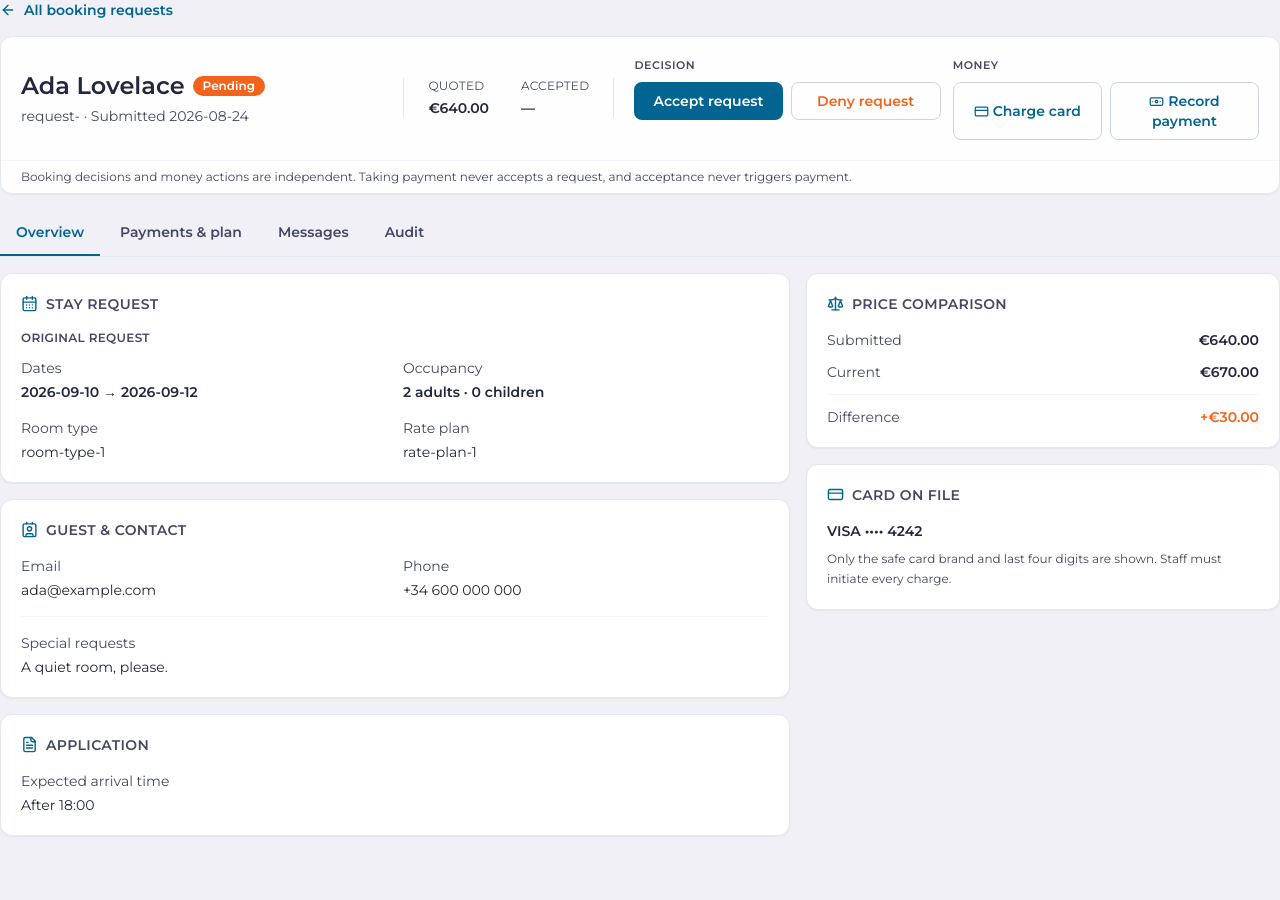
Test: Booking request decisions › uses authoritative net, reserved, allocation, and unresolved fields for every staff amount
Click the button "Deny request".
click(866, 100)  # box [791,82,941,120]
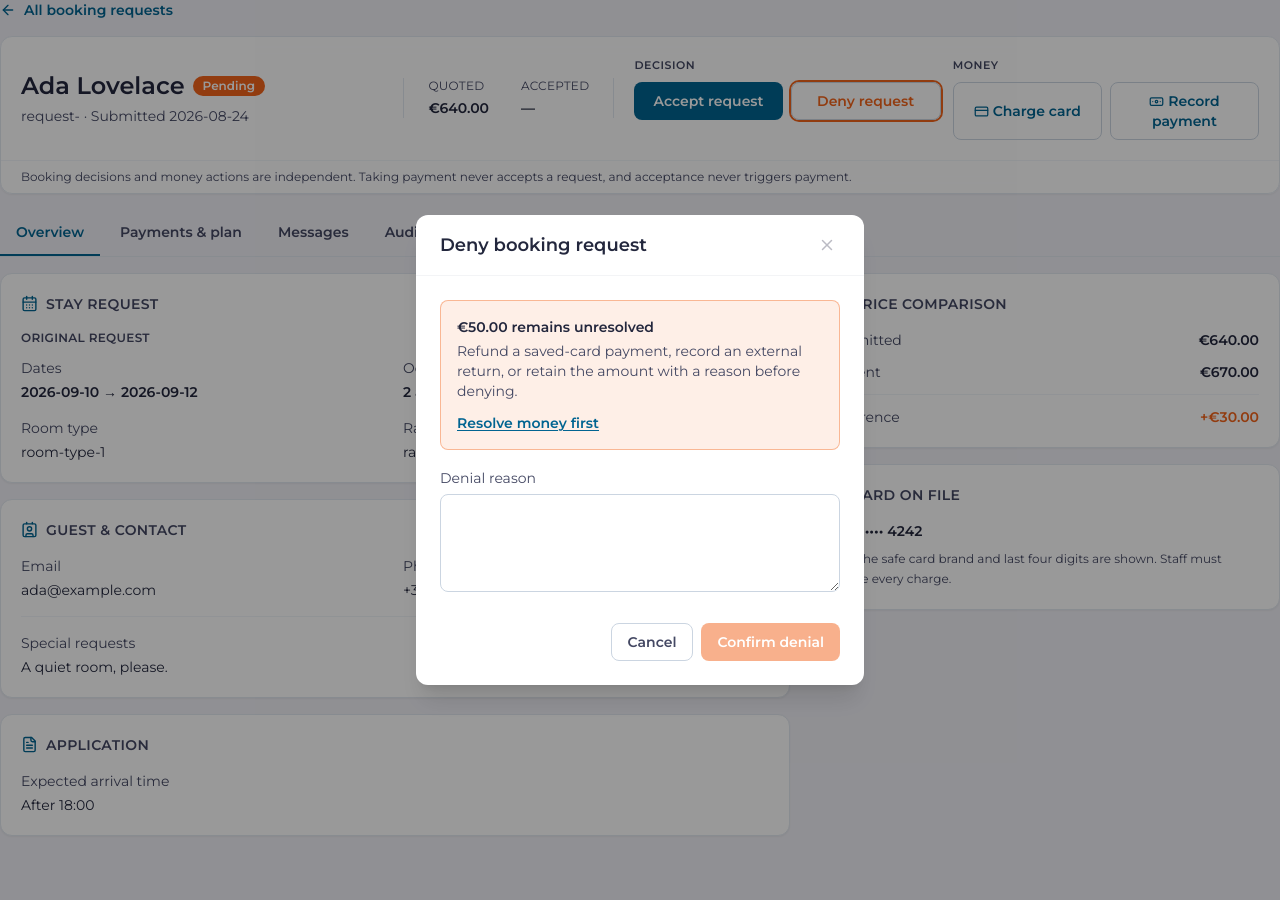
Expected: the message shows "€50.00 remains unresolved", [457,318,654,336]
Click the button "Resolve money first".
click(528, 423)  # box [457,413,599,433]
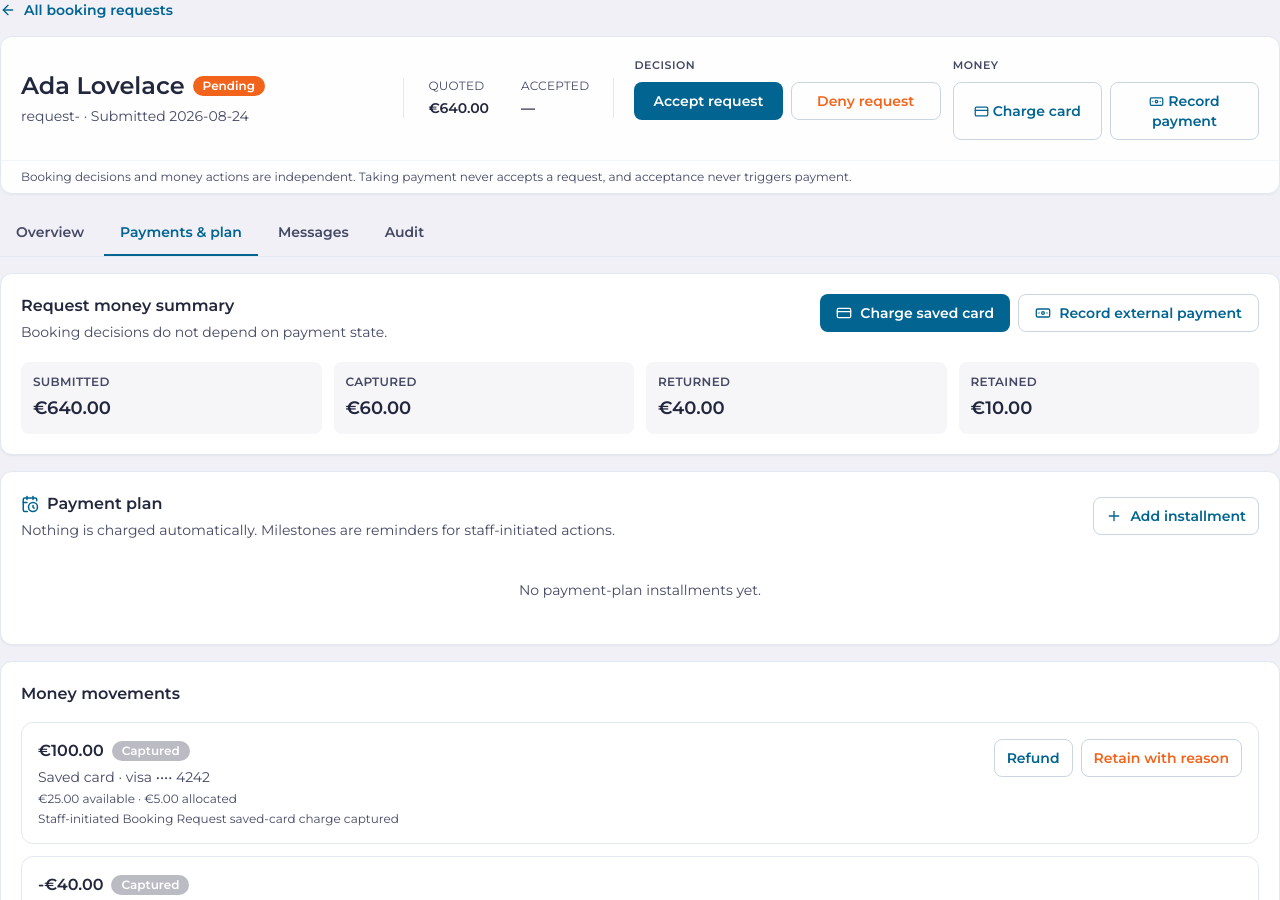
Expected: the heading "Request money summary" is shown, [21,296,234,314]
Expected: the text "€60.00" is shown, [346,396,411,418]
Expected: the text "€40.00" is shown, [658,396,725,418]
Click the button "Refund".
click(1033, 758)  # box [994,738,1072,776]
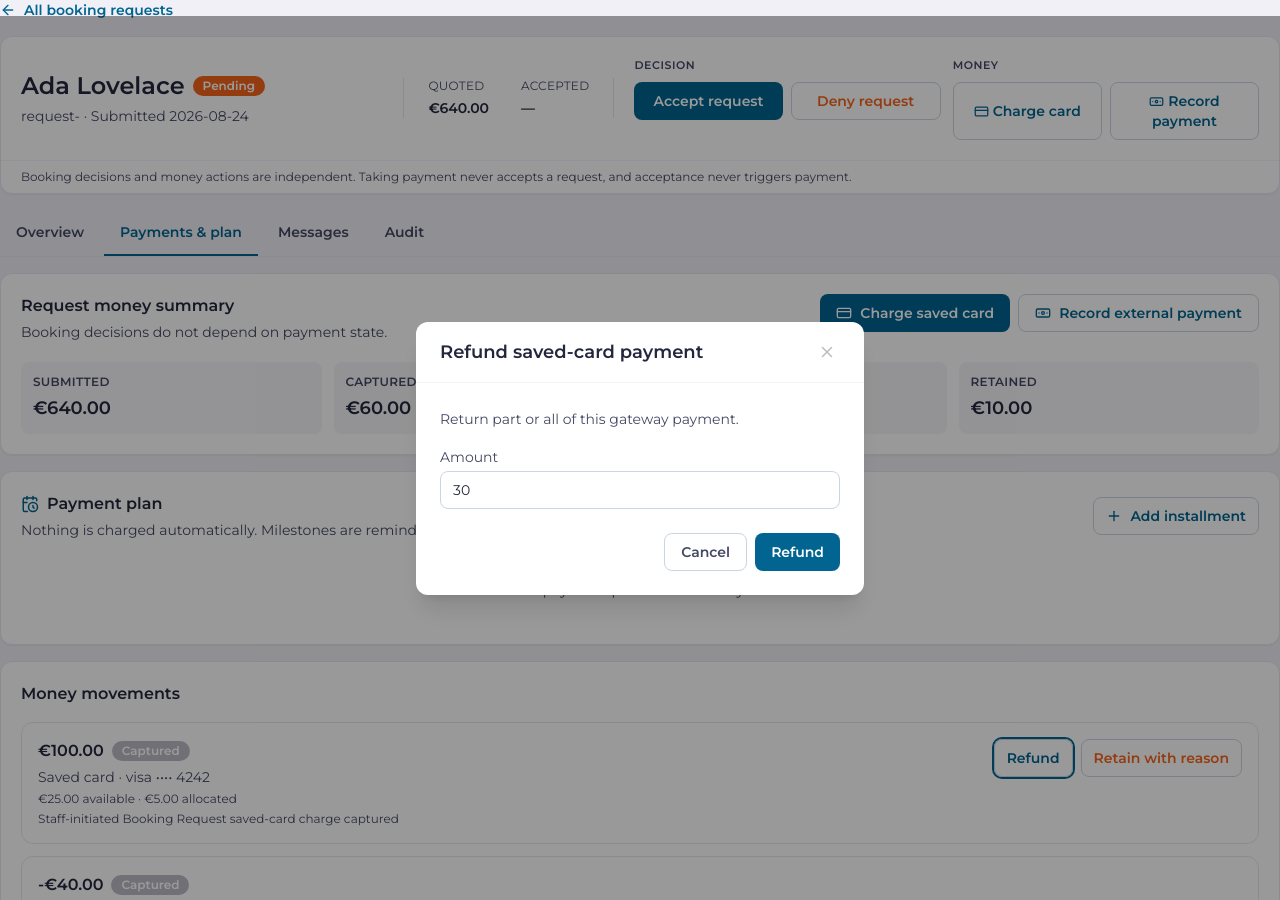
Expected: the field labelled "Amount" holds "30", [440,470,840,508]
